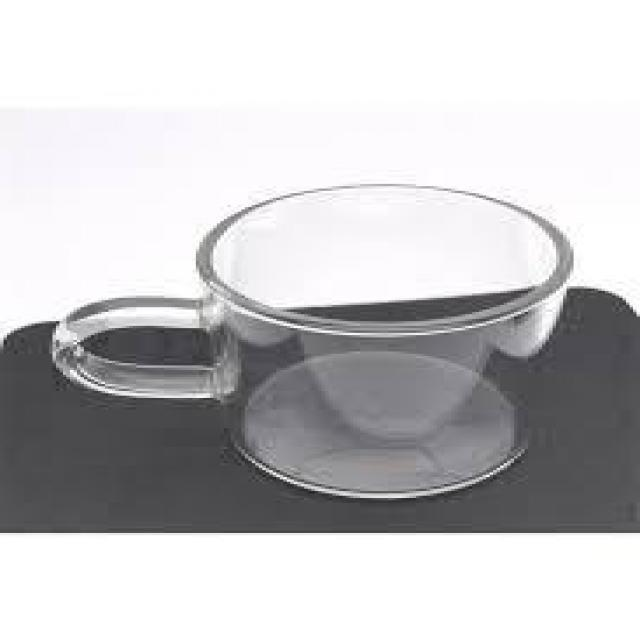glass: (51, 177, 579, 503)
